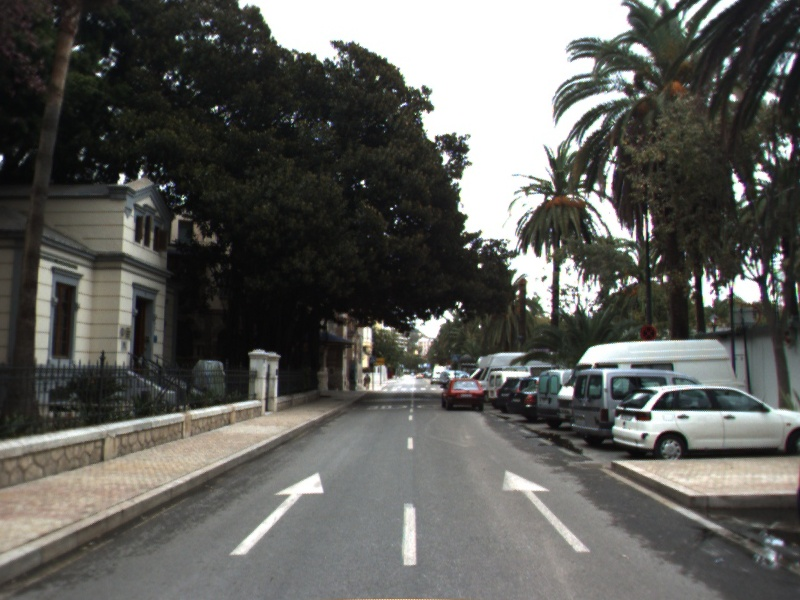STRAIGHT: (227, 470, 326, 557), (501, 468, 592, 554)
